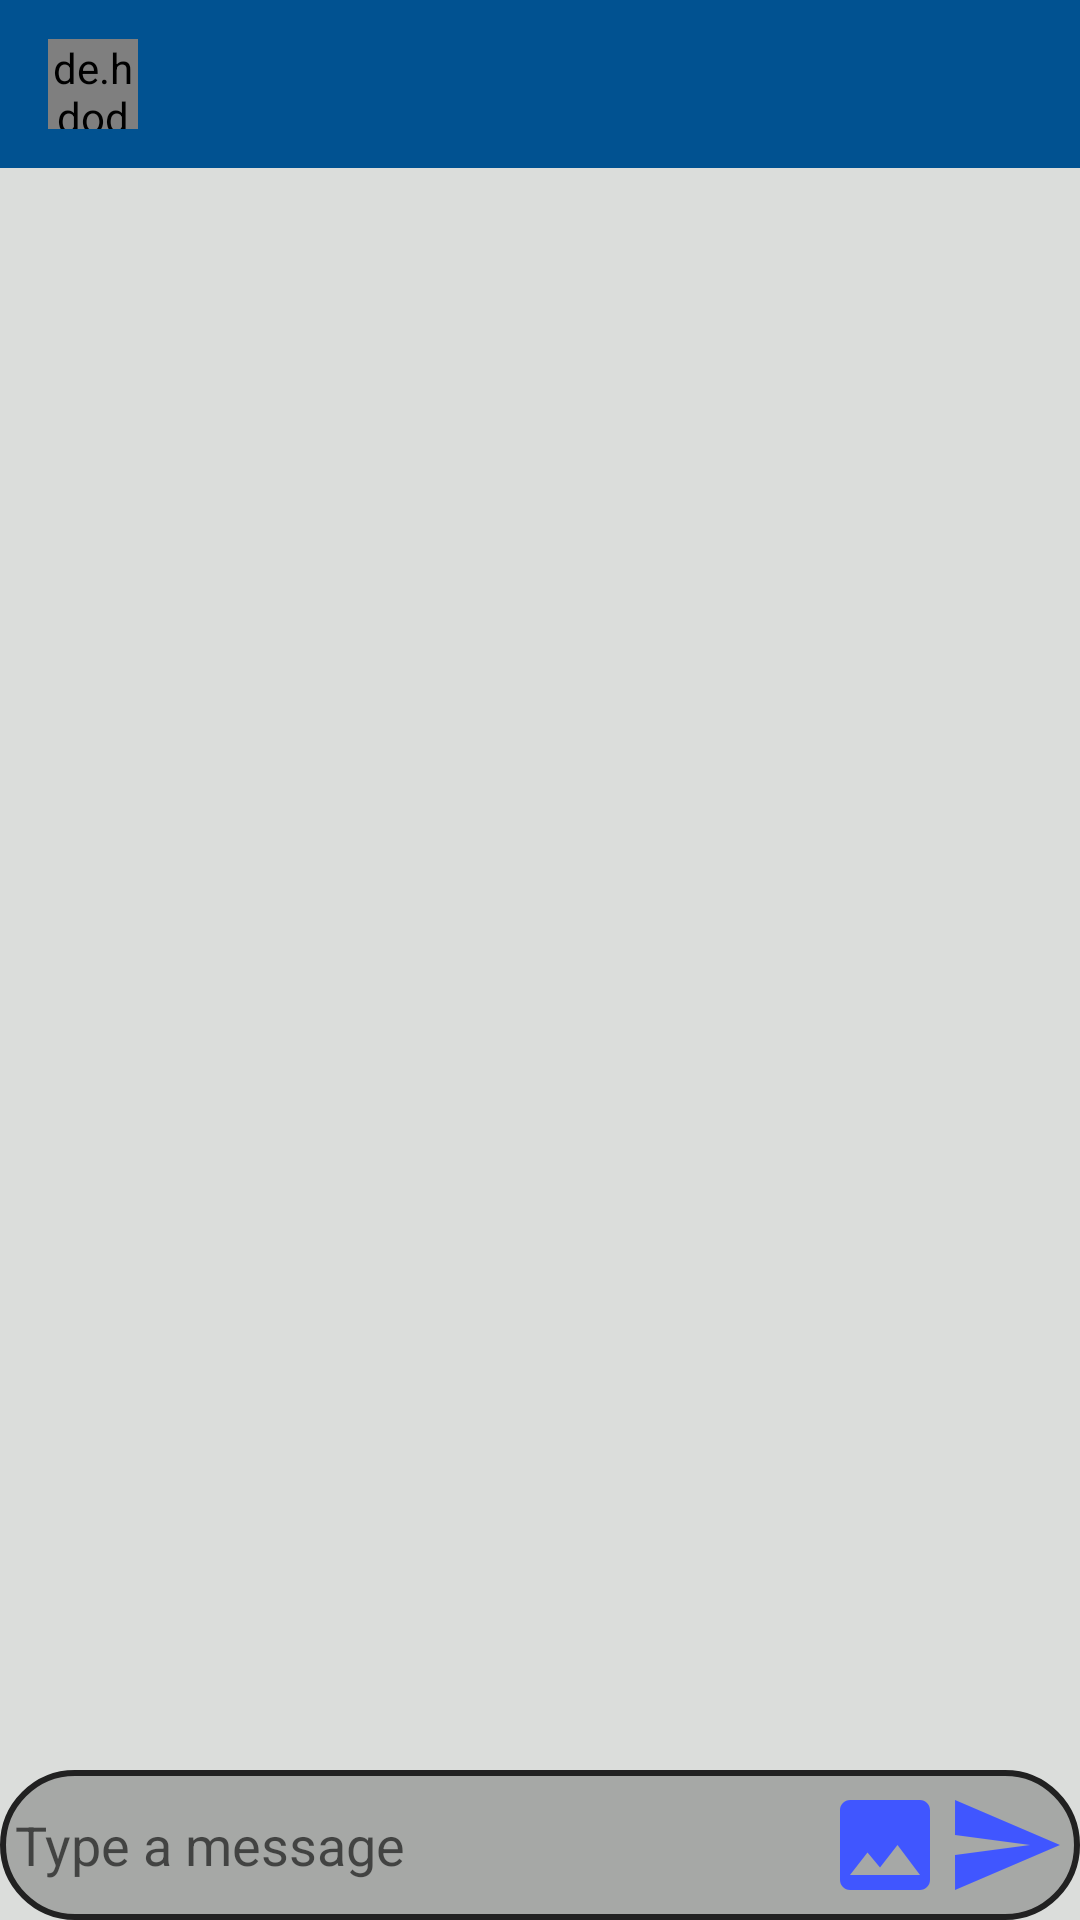

Icons on this 1080px x 1920px Android screen, each with its box as (x1, y1, x2, y2):
send: (955, 1800, 1059, 1890)
